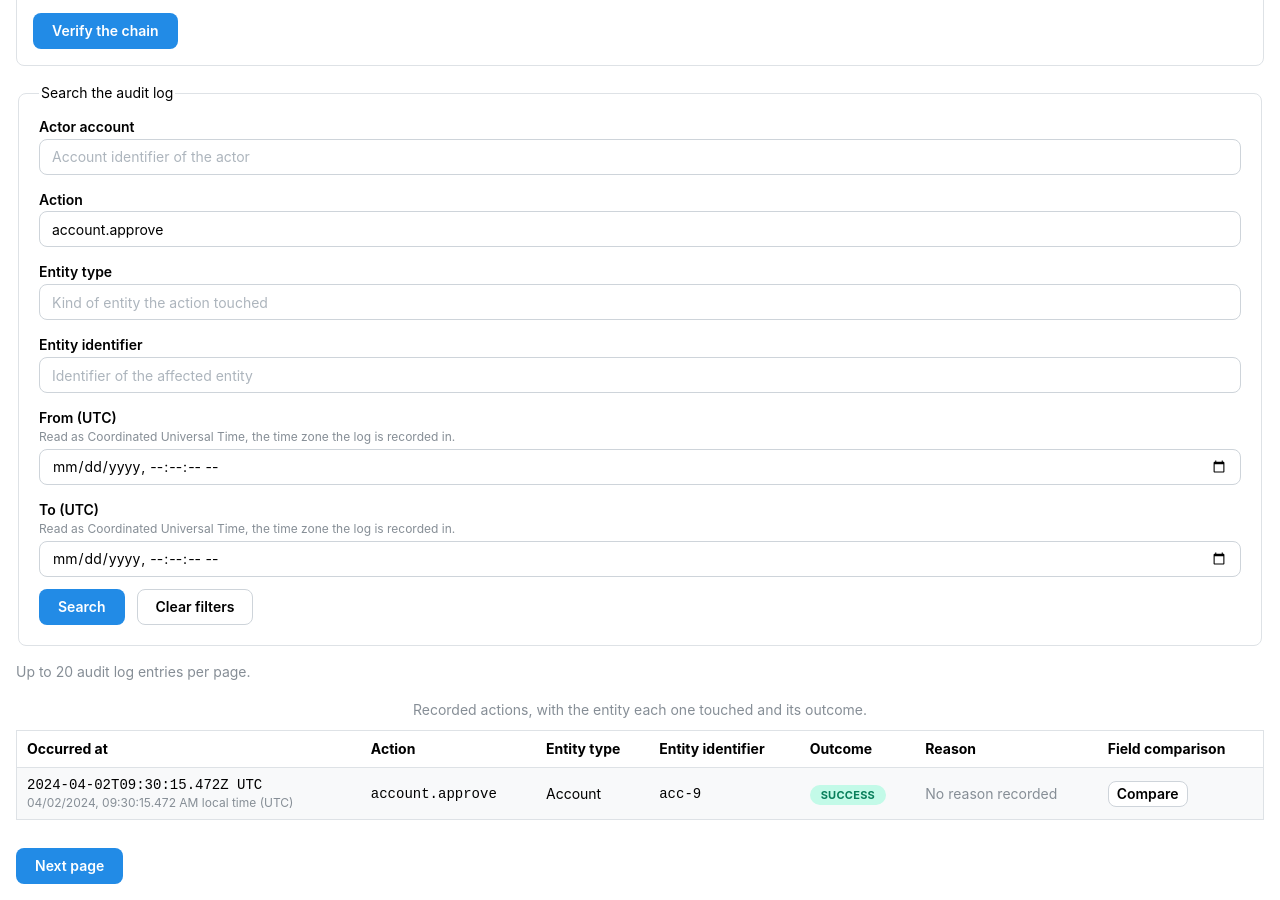
Test: keyset pagination (Req 17 AC3, AC4) › sends `meta.next_after_id` as the `after_id` of the next request
(page scrolled)
Click the button with test id "audit-next-page": [70, 866] box [16, 848, 123, 884]
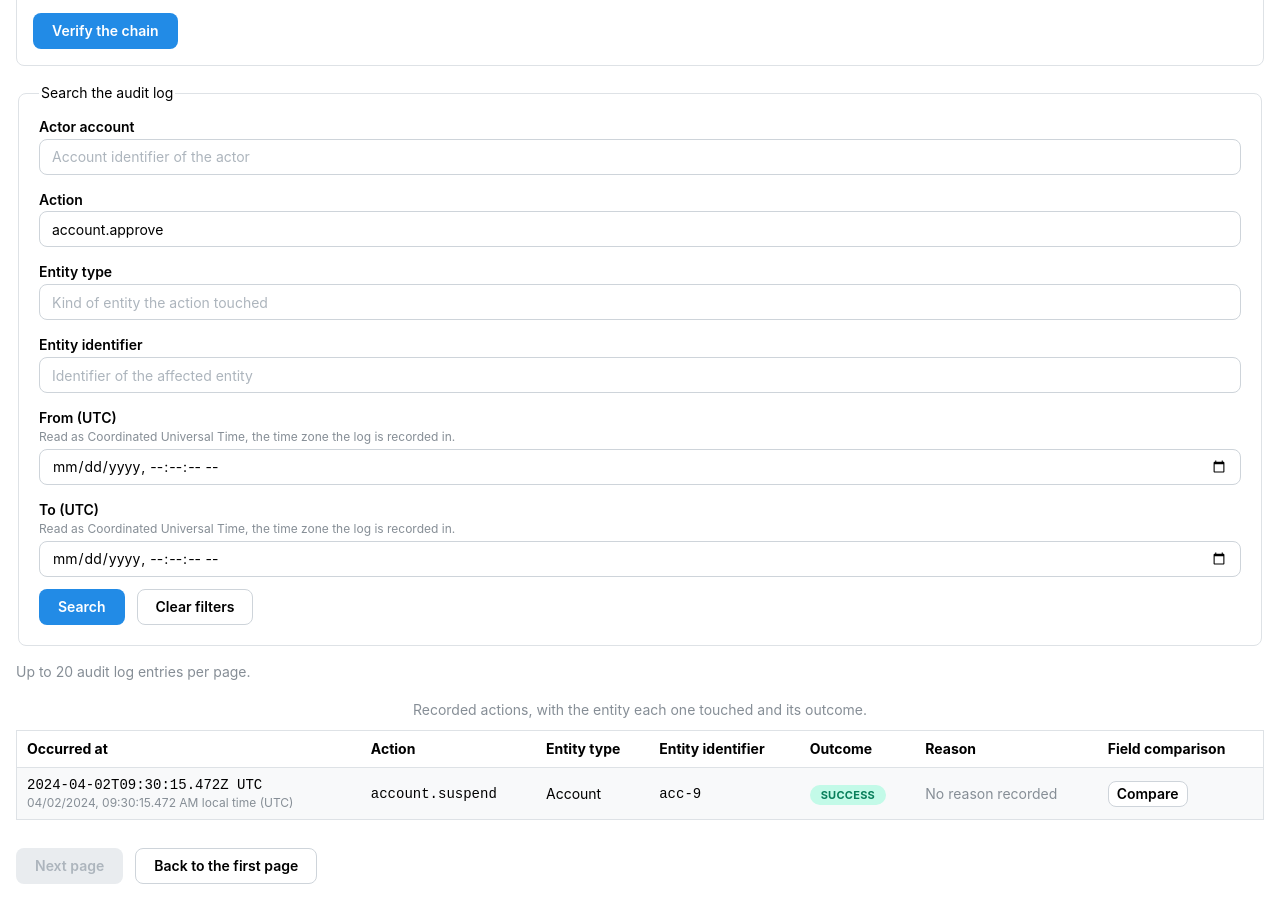
Expected: the row with test id "audit-entry-500" is shown, [16, 768, 1264, 820]
